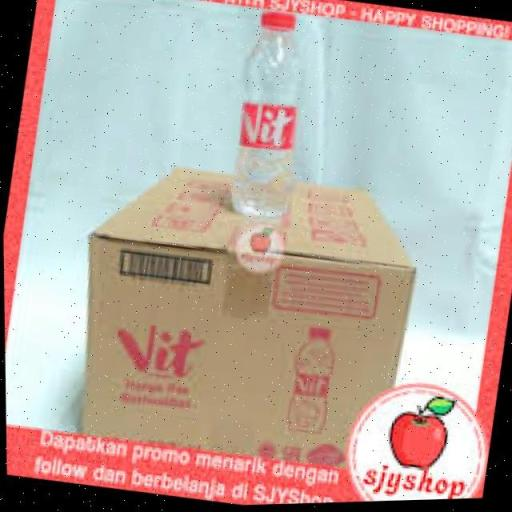plastic: (222, 5, 324, 230)
